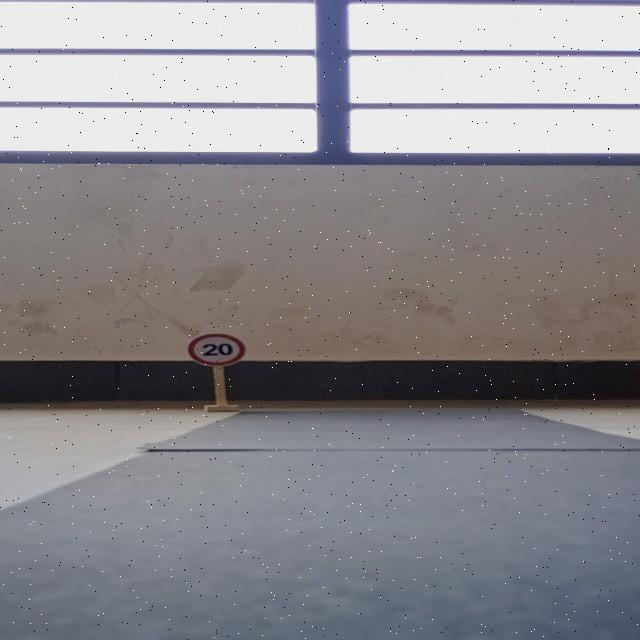Speed20: (182, 329, 250, 372)
